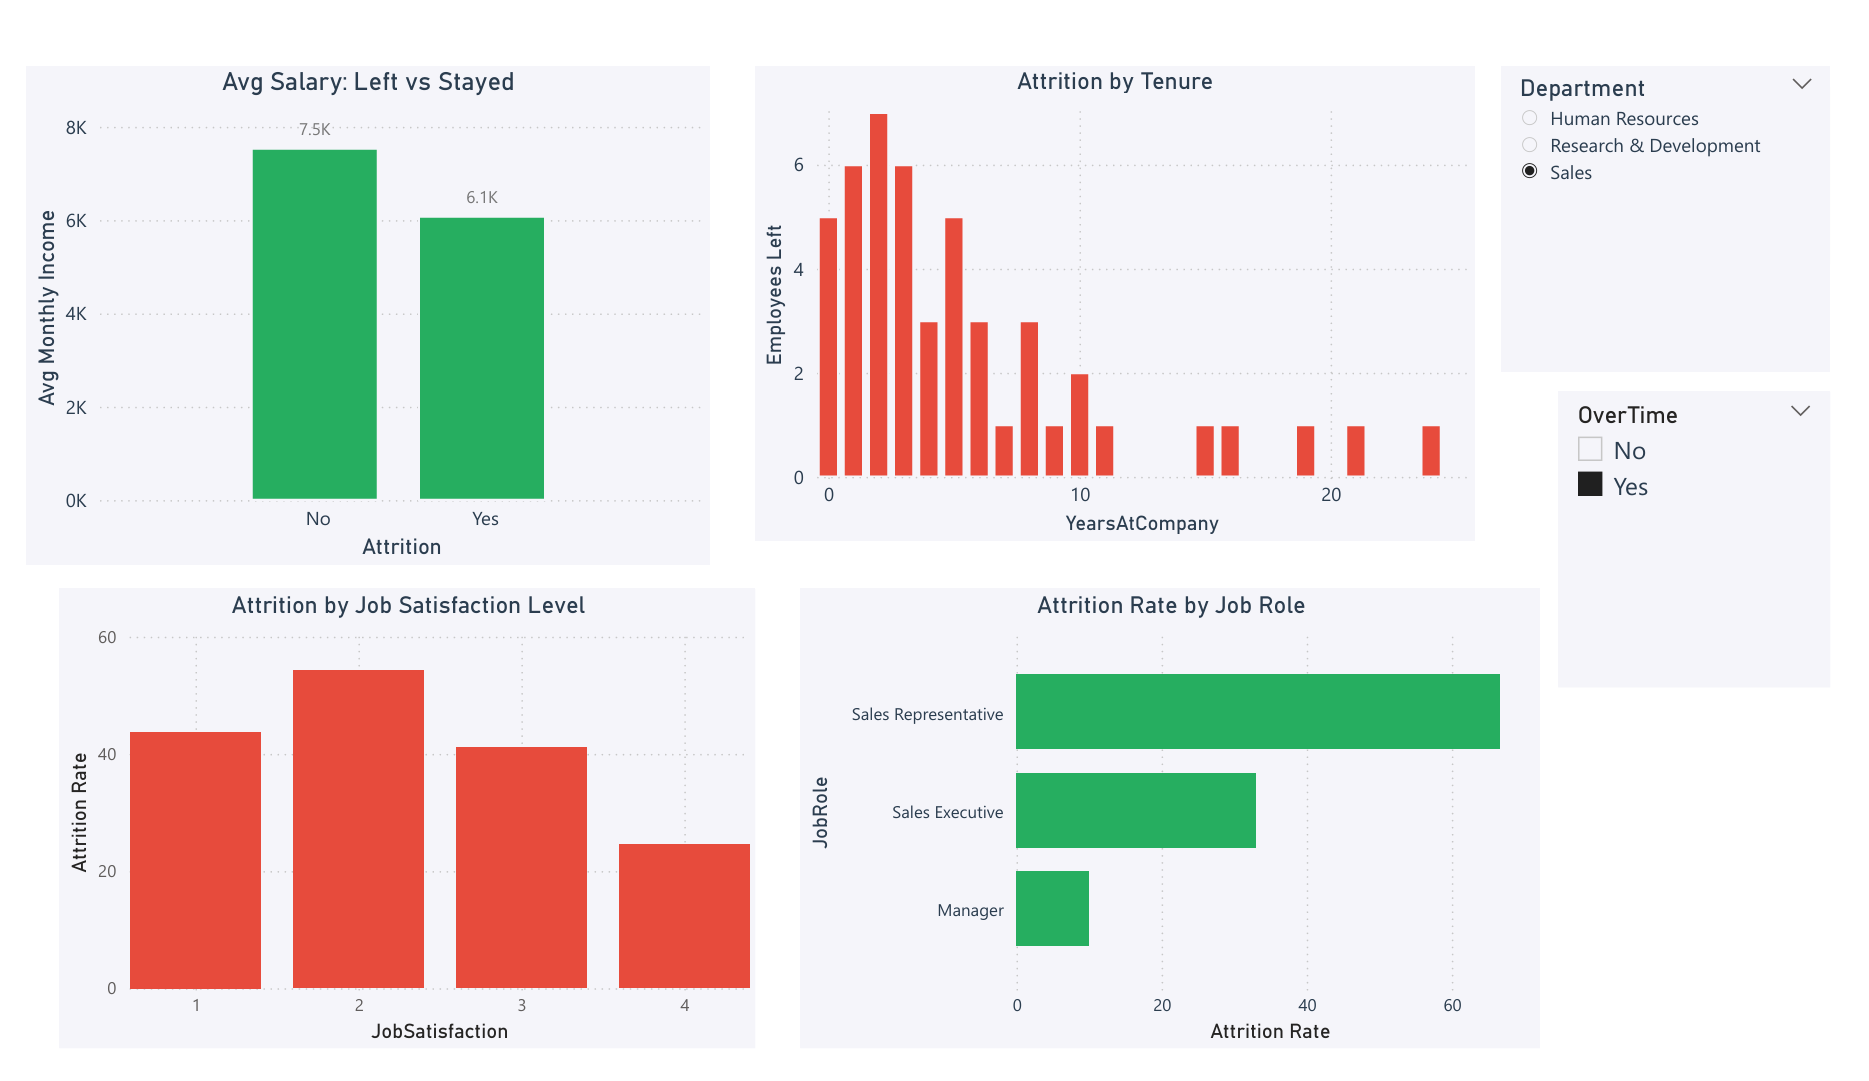

Layout of this report page (visuals, bound fields, positions):
{"tool":"powerbi","page":{"name":"Deep Dive Analysis","canvas":[1280,720],"ordinal":1},"visuals":[{"type":"columnChart","title":"Avg Salary: Left vs Stayed","fields":{"Category":["hr_clean.Attrition"],"Y":["hr_clean.Avg Monthly Income"]},"box":[0,22.7,484.7,354.1],"z":0},{"type":"clusteredColumnChart","title":"Attrition by Job Satisfaction Level","fields":{"Category":["hr_clean.JobSatisfaction"],"Y":["hr_clean.Attrition Rate"]},"box":[22.7,393.8,494.2,325.7],"z":1000},{"type":"columnChart","title":"Attrition by Tenure","fields":{"Category":["hr_clean.YearsAtCompany"],"Y":["hr_clean.Employees Left"]},"box":[516.9,22.7,511.2,337],"z":2000},{"type":"barChart","title":"Attrition Rate by Job Role","fields":{"Category":["hr_clean.JobRole"],"Y":["hr_clean.Attrition Rate"]},"box":[549.1,393.8,524.5,325.7],"z":3000},{"type":"slicer","fields":{"Values":["hr_clean.Department"]},"box":[1047.1,22.7,232.9,217.8],"z":4000},{"type":"slicer","fields":{"Values":["hr_clean.OverTime"]},"box":[1086.9,253.7,193.1,210.2],"z":5000}]}

Visuals, with their boxes in screenshot pixels (x1, y1, x2, y2), scaled from the page's 1280x720 canvas onto the 1869x1081 screenshot:
"Avg Salary: Left vs Stayed" columnChart: 0:34:708:566
"Attrition by Job Satisfaction Level" clusteredColumnChart: 33:591:755:1080
"Attrition by Tenure" columnChart: 755:34:1501:540
"Attrition Rate by Job Role" barChart: 802:591:1568:1080
slicer - hr_clean.Department: 1529:34:1868:361
slicer - hr_clean.OverTime: 1587:381:1868:696
